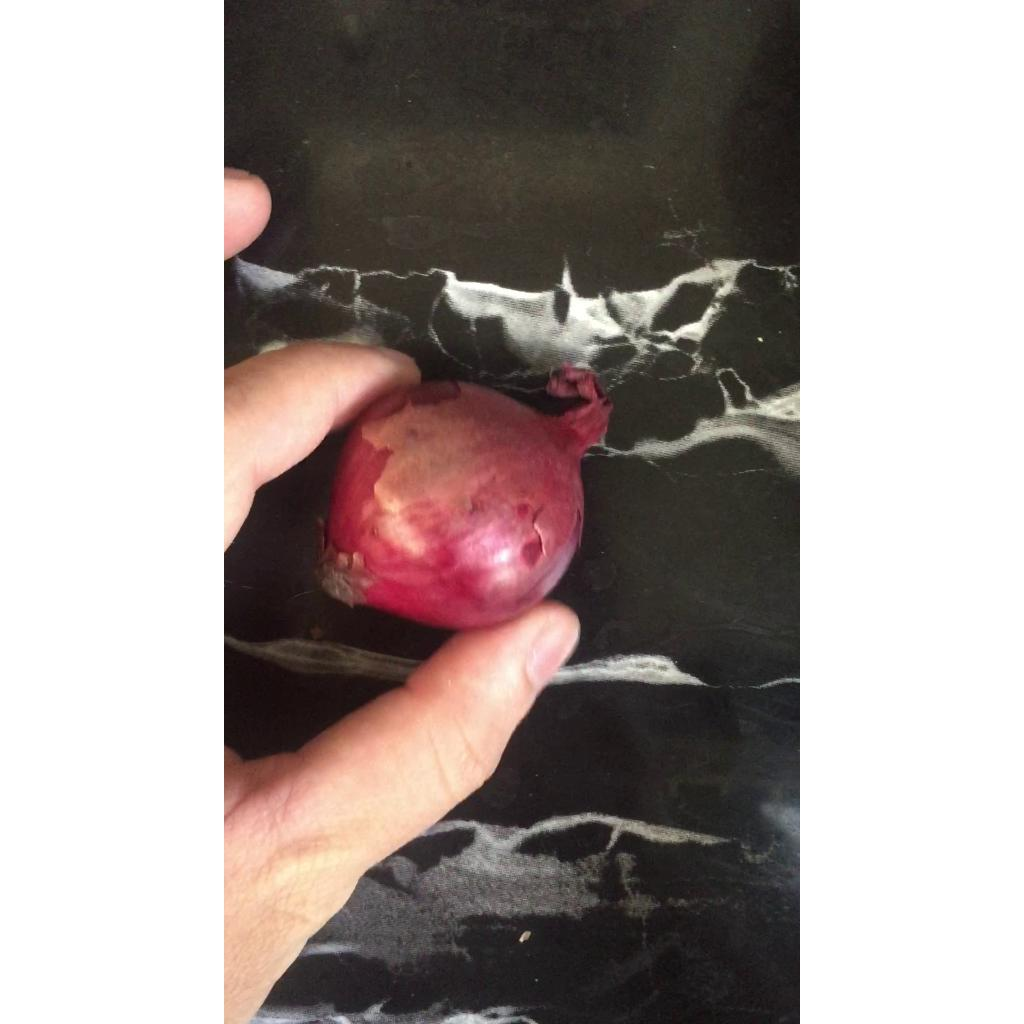Onion: (318, 365, 611, 629)
